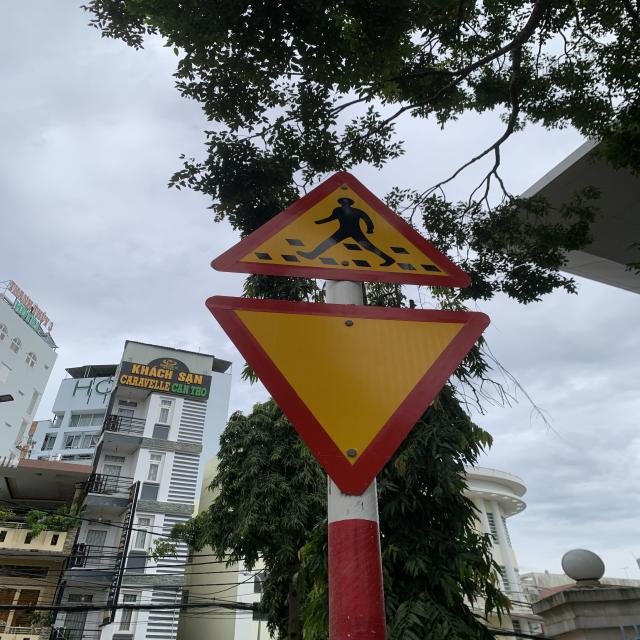Duong_Nguoi_Di_Bo_Sang_Ngang: (212, 172, 472, 288)
Gioi_Han_Toc_Do_25: (206, 294, 490, 496), (206, 295, 490, 496)
